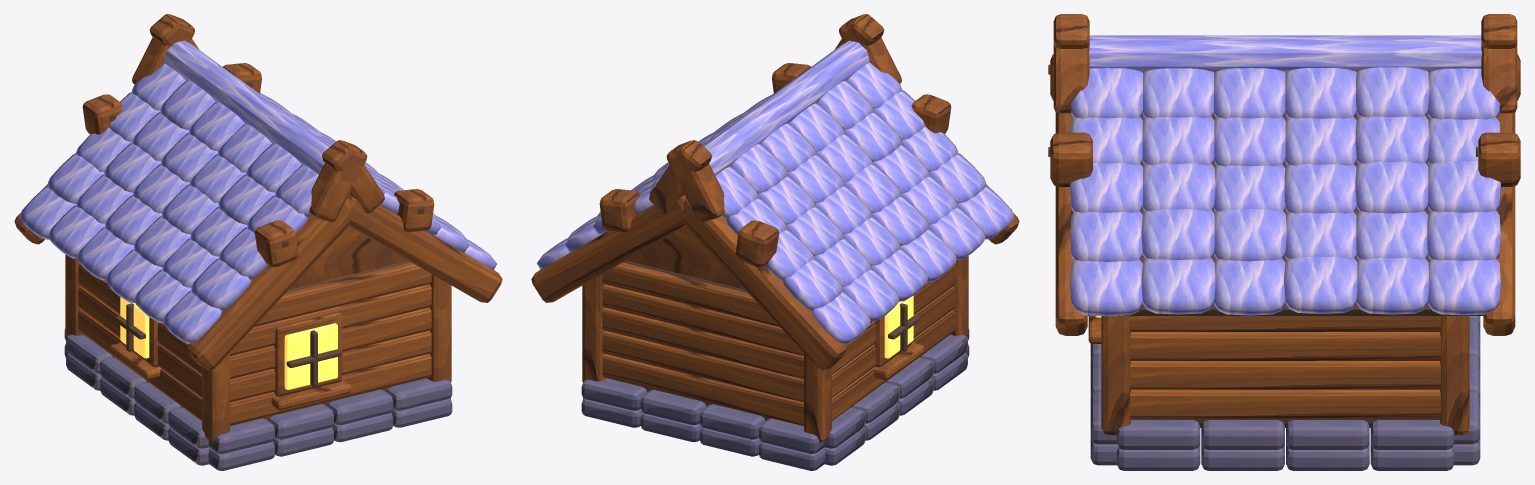
Rendered from extension_lodge.glb.
3 views of the same model, side by side, from view 1: azimuth 30°, elevation 25°; view 2: azimuth 150°, elevation 25°; view 3: azimuth 270°, elevation 25° (orthographic). The views are drawn at different scales.
Visible parts, largest first — view 1: Carved bargeboard.001, Soft snowy ridge, Carved bargeboard.003, Extension timber wall.009, Extension timber wall.008, Extension timber wall.005, Extension timber wall.006, Extension timber wall.007, Extension closed gables, Amber window, Crossed stout roof ornament.002, Extension stout upright.003 (+65 smaller); view 2: Carved bargeboard, Soft snowy ridge, Carved bargeboard.002, Extension timber wall.001, Extension timber wall.002, Extension timber wall, Extension timber wall.003, Extension timber wall.004, Extension closed gables, Crossed stout roof ornament, Extension stout upright.002, Extension side timber.001 (+62 smaller); view 3: Soft snowy ridge, Extension side timber.005, Extension side timber.006, Extension side timber.007, Extension side timber.008, Soft sculpted overlapping snow tile.056, Soft sculpted overlapping snow tile.058, Soft sculpted overlapping snow tile.055, Soft sculpted overlapping snow tile.054, Soft sculpted overlapping snow tile.059, Soft sculpted overlapping snow tile.057, Soft sculpted overlapping snow tile.043 (+47 smaller).
Part boxes in pixels (x1,y1,x2,y2): Carved bargeboard.001: [186, 198, 354, 370]; Soft snowy ridge: [164, 40, 330, 174]; Carved bargeboard.003: [347, 194, 502, 302]; Extension timber wall.009: [254, 262, 431, 326]; Extension timber wall.008: [230, 284, 431, 355]; Extension timber wall.005: [230, 354, 431, 425]; Extension timber wall.006: [230, 330, 431, 402]; Extension timber wall.007: [230, 307, 431, 378]; Extension closed gables: [289, 226, 407, 289]; Amber window: [284, 323, 337, 389]; Crossed stout roof ornament.002: [309, 140, 367, 222]; Extension stout upright.003: [427, 274, 451, 382]; Carved bargeboard: [679, 198, 847, 370]; Soft snowy ridge: [703, 40, 869, 175]; Carved bargeboard.002: [531, 194, 686, 302]; Extension timber wall.001: [602, 330, 803, 402]; Extension timber wall.002: [602, 307, 803, 378]; Extension timber wall: [602, 354, 803, 425]; Extension timber wall.003: [602, 284, 803, 355]; Extension timber wall.004: [602, 262, 779, 326]; Extension closed gables: [626, 226, 744, 289]; Crossed stout roof ornament: [666, 140, 724, 222]; Extension stout upright.002: [582, 274, 606, 382]; Extension side timber.001: [832, 286, 955, 397]; Soft snowy ridge: [1089, 35, 1481, 72]; Extension side timber.005: [1130, 389, 1440, 418]; Extension side timber.006: [1130, 361, 1440, 389]; Extension side timber.007: [1130, 332, 1440, 360]; Extension side timber.008: [1130, 316, 1440, 331]; Soft sculpted overlapping snow tile.056: [1284, 256, 1357, 313]; Soft sculpted overlapping snow tile.058: [1141, 257, 1215, 314]; Soft sculpted overlapping snow tile.055: [1356, 257, 1428, 314]; Soft sculpted overlapping snow tile.054: [1428, 258, 1500, 315]; Soft sculpted overlapping snow tile.059: [1070, 259, 1142, 316]; Soft sculpted overlapping snow tile.057: [1214, 258, 1285, 315]; Soft sculpted overlapping snow tile.043: [1355, 161, 1428, 213].
Size of the model in its own units: 4.27 by 3.98 by 4.46.
Materials: 5 (3 with a texture image).
